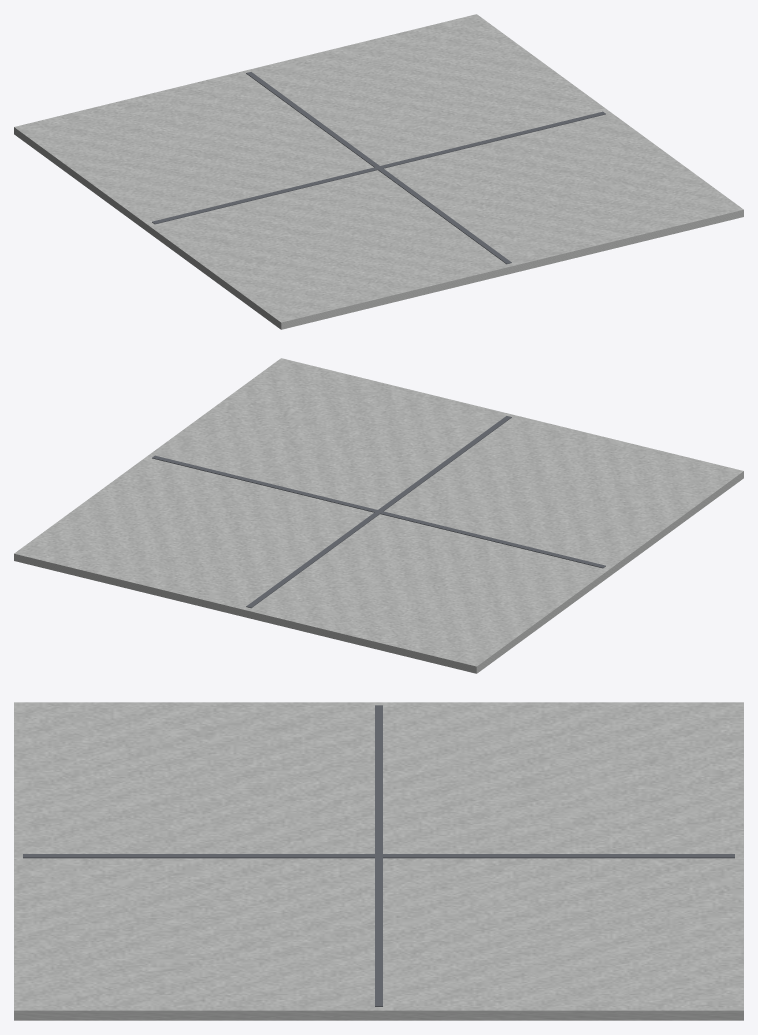
File: velodrome-and-track-cycling-concourse-floor-module-e465b5be__37987.glb
3 views of the same model, one above another, from view 1: azimuth 30°, elevation 25°; view 2: azimuth 150°, elevation 25°; view 3: azimuth 270°, elevation 25° (orthographic). The views are drawn at different scales.
Parts seen in each view (by area): view 1: concourse-floor-module-apron, concourse-floor-module-charcoal; view 2: concourse-floor-module-apron, concourse-floor-module-charcoal; view 3: concourse-floor-module-apron, concourse-floor-module-charcoal.
Part boxes in pixels (<box>): concourse-floor-module-apron: <box>14,14,743,329</box>; concourse-floor-module-charcoal: <box>152,72,605,264</box>; concourse-floor-module-apron: <box>14,358,743,673</box>; concourse-floor-module-charcoal: <box>152,416,605,608</box>; concourse-floor-module-apron: <box>14,702,743,1020</box>; concourse-floor-module-charcoal: <box>23,705,734,1006</box>.
Bounding box in the file's own units: 8 × 0.1303 × 8.
2 materials, 1 textured.
